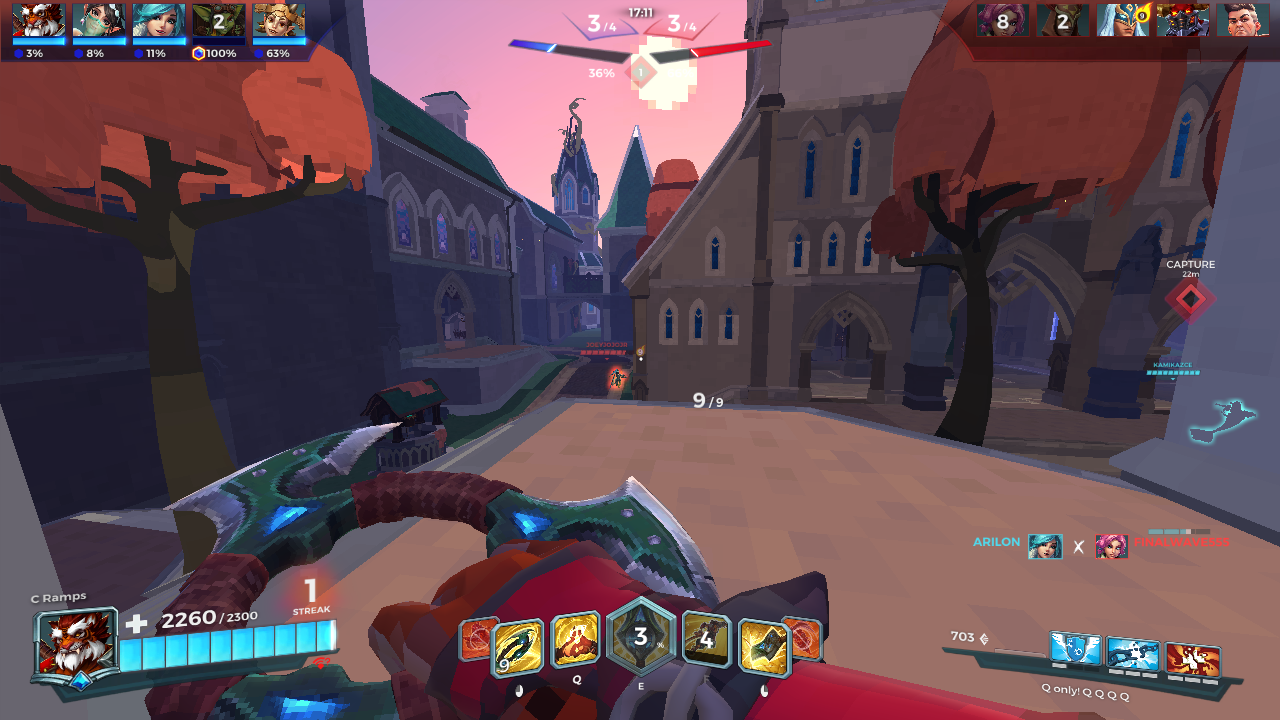model: (606, 361, 630, 394)
